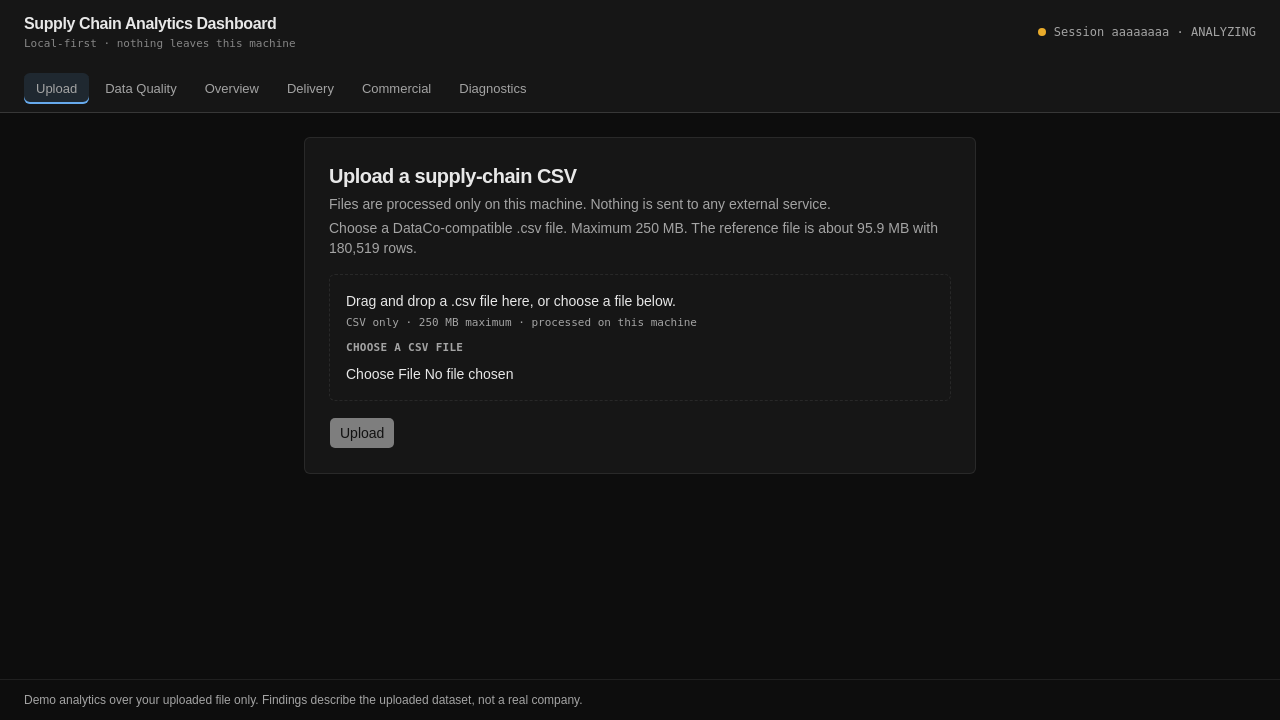
Phase-12 Executive Overview › renders loading progress while KPI analysis is not ready
Click the button "Overview": point(232, 88) left=193, top=72, right=271, bottom=104
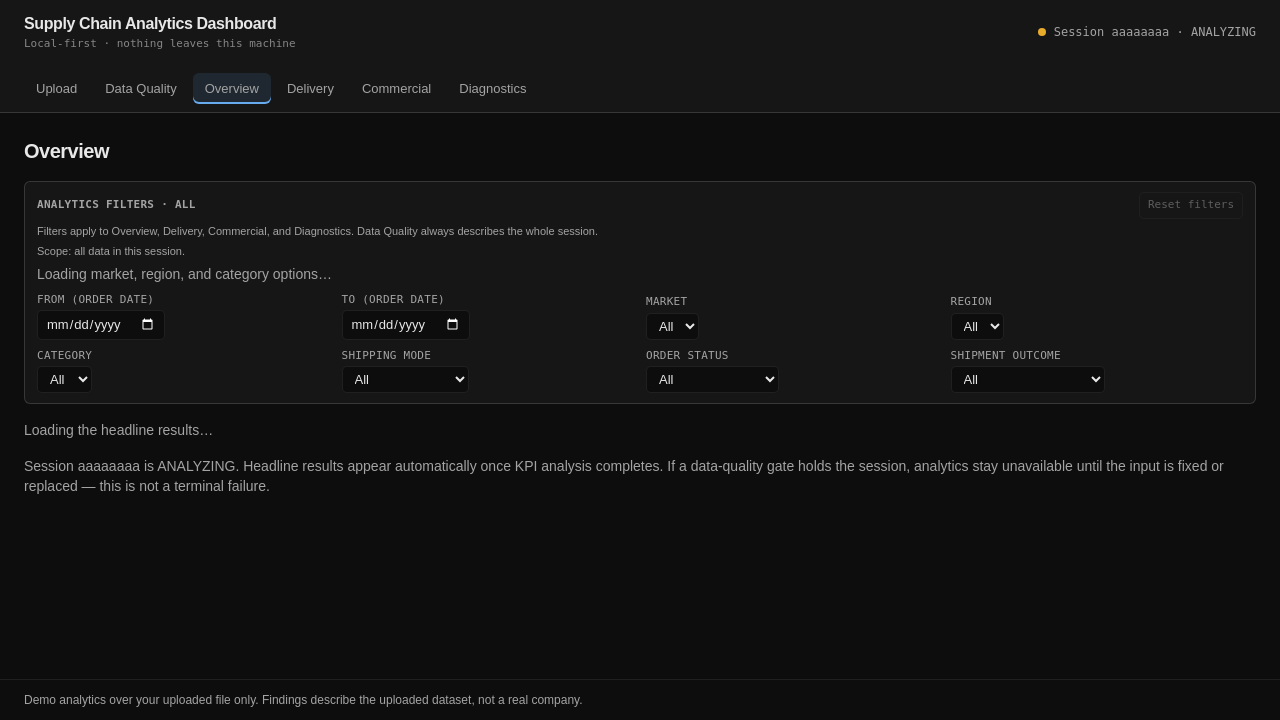
Result: the heading "Overview" is shown at left=24, top=140, right=109, bottom=162
Result: the text "Loading the headline results…" is shown at left=24, top=422, right=213, bottom=438
